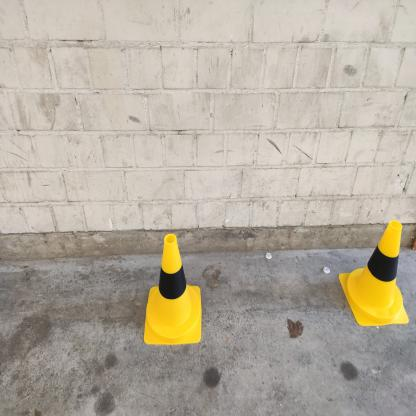Cones_small_yellow: (134, 224, 206, 358), (337, 223, 412, 326)
